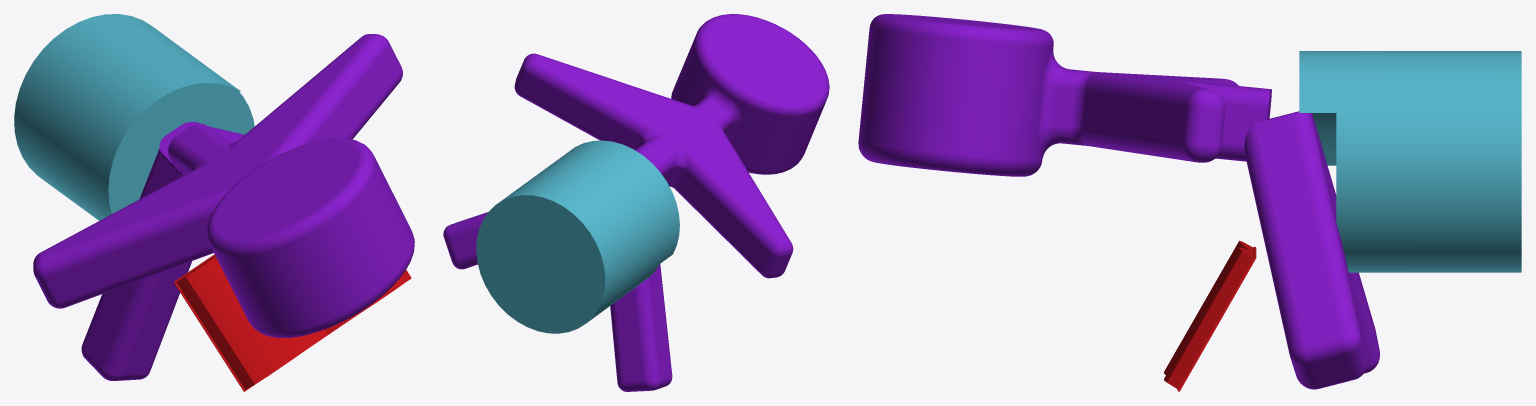
Rendered from student.obj.
3 views of the same model, side by side, from view 1: azimuth 30°, elevation 25°; view 2: azimuth 150°, elevation 25°; view 3: azimuth 270°, elevation 25° (orthographic). The views are drawn at different scales.
Visible parts, largest first — view 1: student_book; view 2: student_book; view 3: student_book.
Part boxes in pixels (box(x1,y1,x2,y2)): student_book: box(14, 14, 414, 391); student_book: box(443, 14, 829, 391); student_book: box(858, 14, 1521, 391).
Bounding box in the file's own units: 90.43 × 75.06 × 114.
